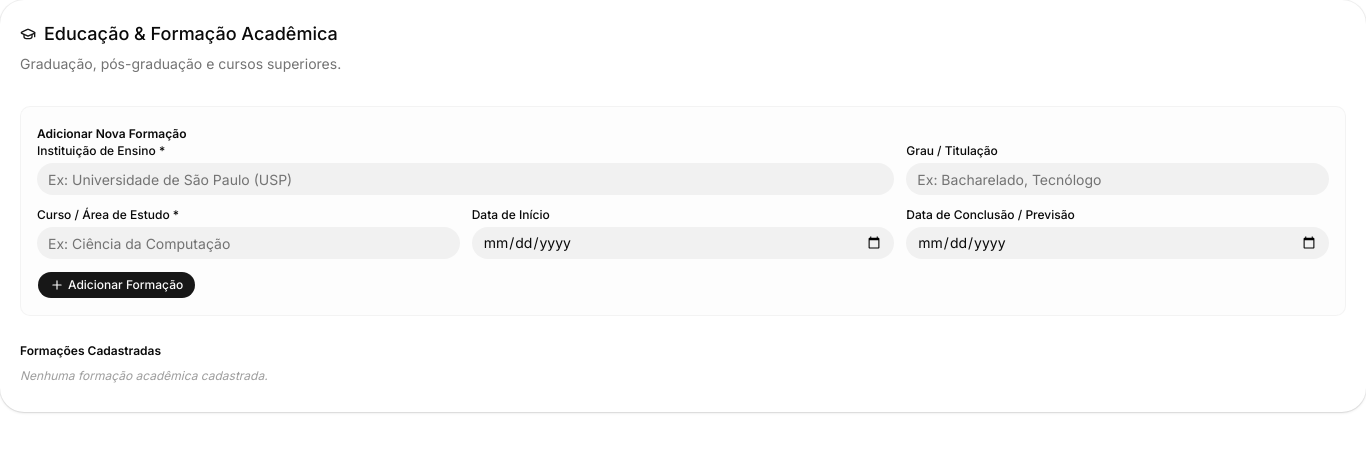
Test: CandidateEducationsSection Component › displays validation errors on empty submission
Click the button "Adicionar Formação". click: (117, 285)
box: [37,271,196,299]
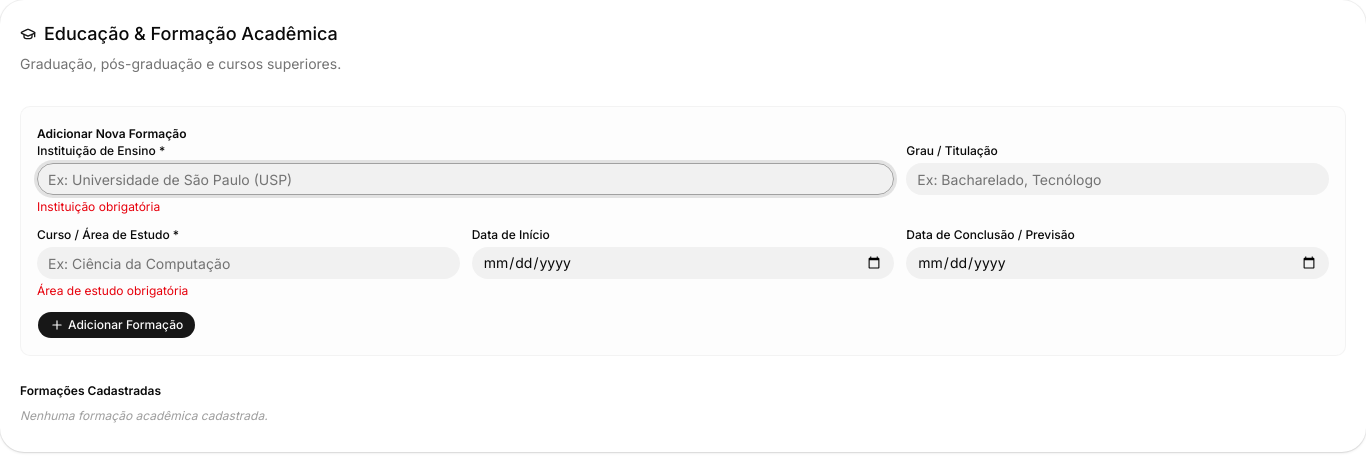
Now the text "Instituição obrigatória" is shown, box [37,199,160,214]
Now the text "Área de estudo obrigatória" is shown, box [37,283,188,298]
